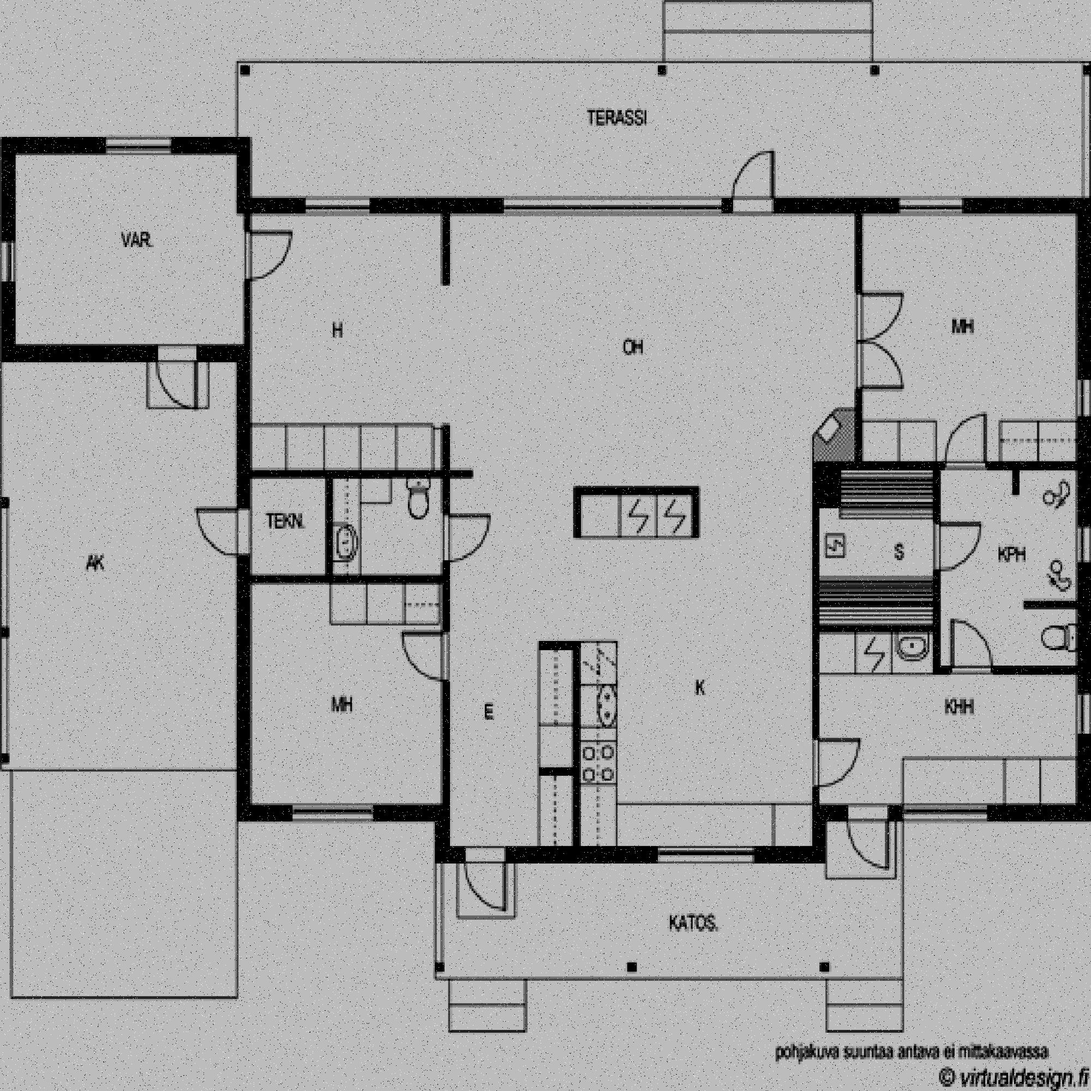wall: (237, 199, 1091, 213), (1080, 199, 1091, 822), (237, 346, 251, 821), (437, 847, 828, 864), (814, 807, 1091, 822), (1, 346, 251, 362), (1, 138, 251, 153), (237, 806, 451, 821), (1, 138, 14, 362), (444, 425, 451, 807), (813, 508, 820, 806), (814, 463, 1091, 470), (857, 199, 863, 470), (237, 576, 451, 583), (935, 463, 942, 675), (575, 643, 581, 864), (237, 471, 451, 477), (814, 463, 840, 508), (575, 487, 700, 496), (935, 668, 1091, 675), (237, 138, 251, 213), (814, 626, 942, 633), (245, 198, 251, 346), (437, 807, 451, 864), (814, 807, 828, 864), (443, 198, 450, 284), (327, 472, 332, 583), (1026, 602, 1091, 609), (575, 487, 583, 538), (693, 487, 700, 538), (540, 769, 581, 776), (540, 643, 581, 649), (1015, 463, 1021, 495), (451, 472, 472, 478)
